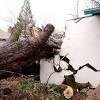Downstairs: (1, 19, 62, 75)
